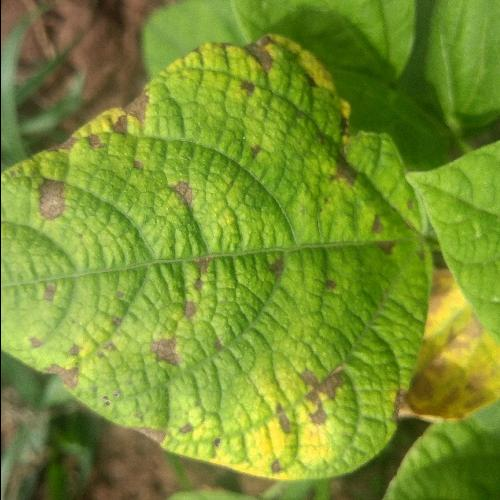hawar: (34, 29, 385, 478)
